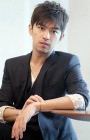male: (26, 3, 78, 61)
